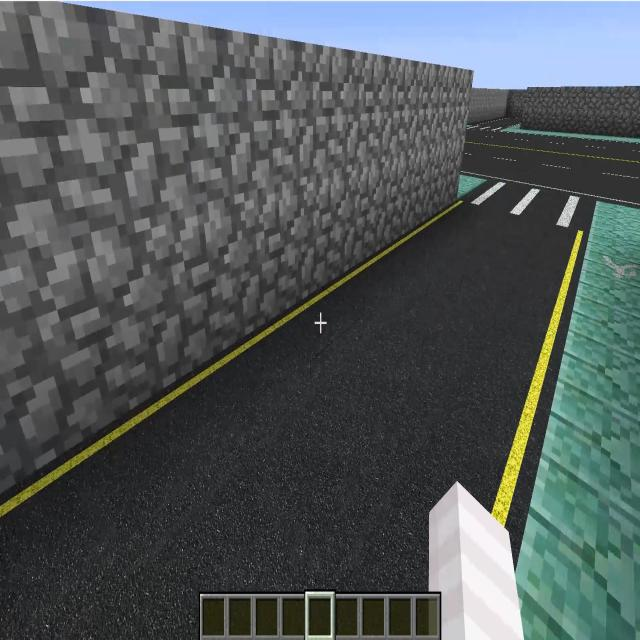crosswalk: (464, 175, 592, 231)
road: (1, 202, 583, 638), (464, 129, 638, 196)
sidewalk: (516, 202, 640, 639), (501, 124, 640, 143), (457, 174, 485, 198)
